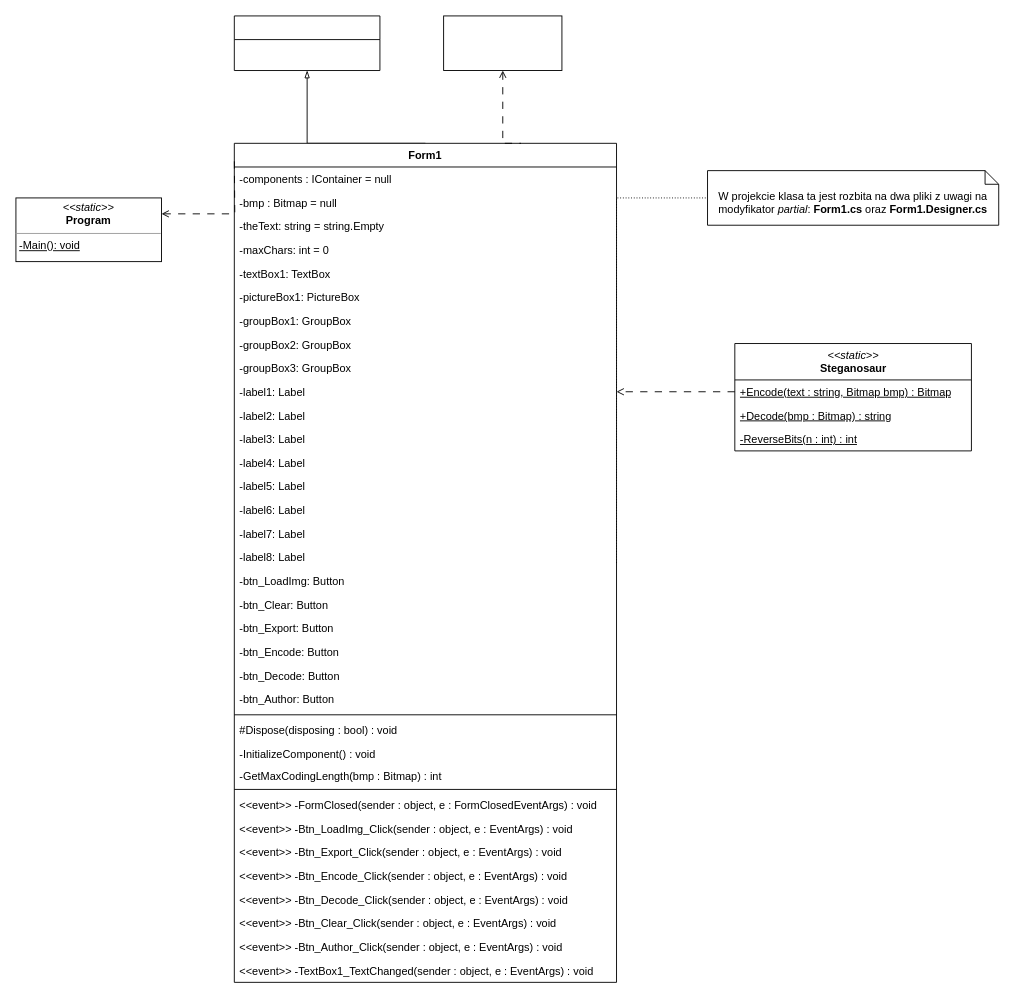
Image size: 1015x1001. Some labels were removed from this diagram. The centre of each missing label's shape, as x and y in pixels:
<<Interface>> IContainer: the point at 502,43
Form: the point at 306,43
